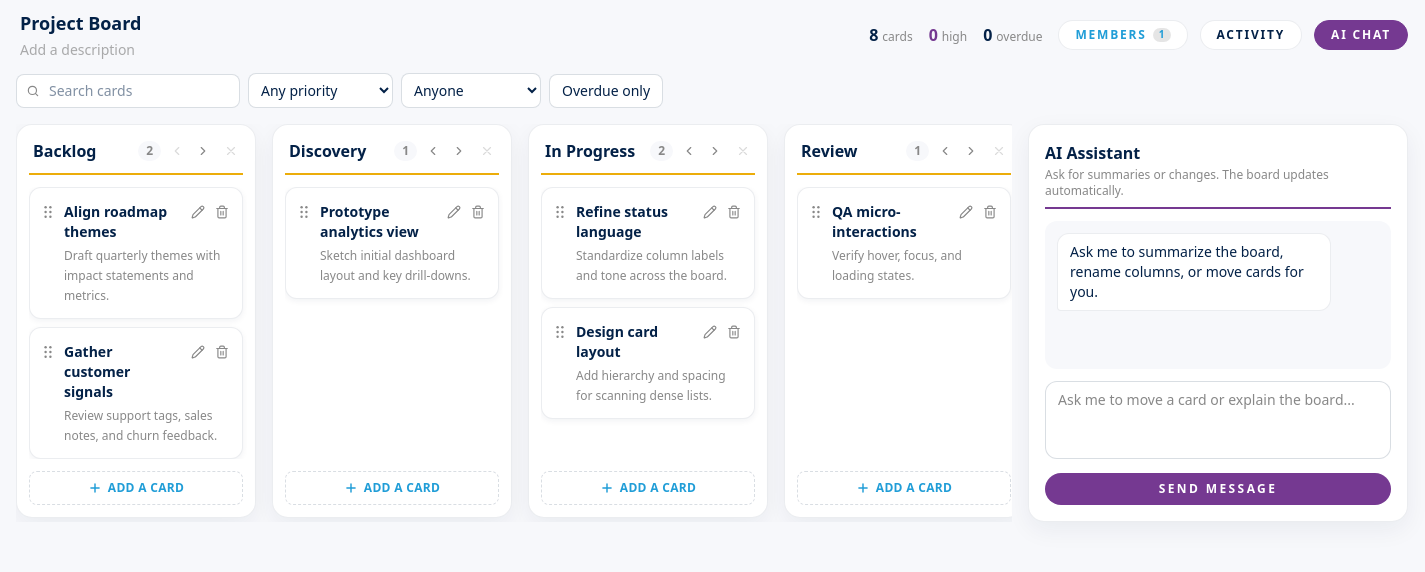
Test: KanbanBoard › restores the saved column title in the input when a rename fails
Replace the text in the 1st field named "Column title" with "Broken" at (81, 151), box [29, 137, 132, 165]
Then press Enter
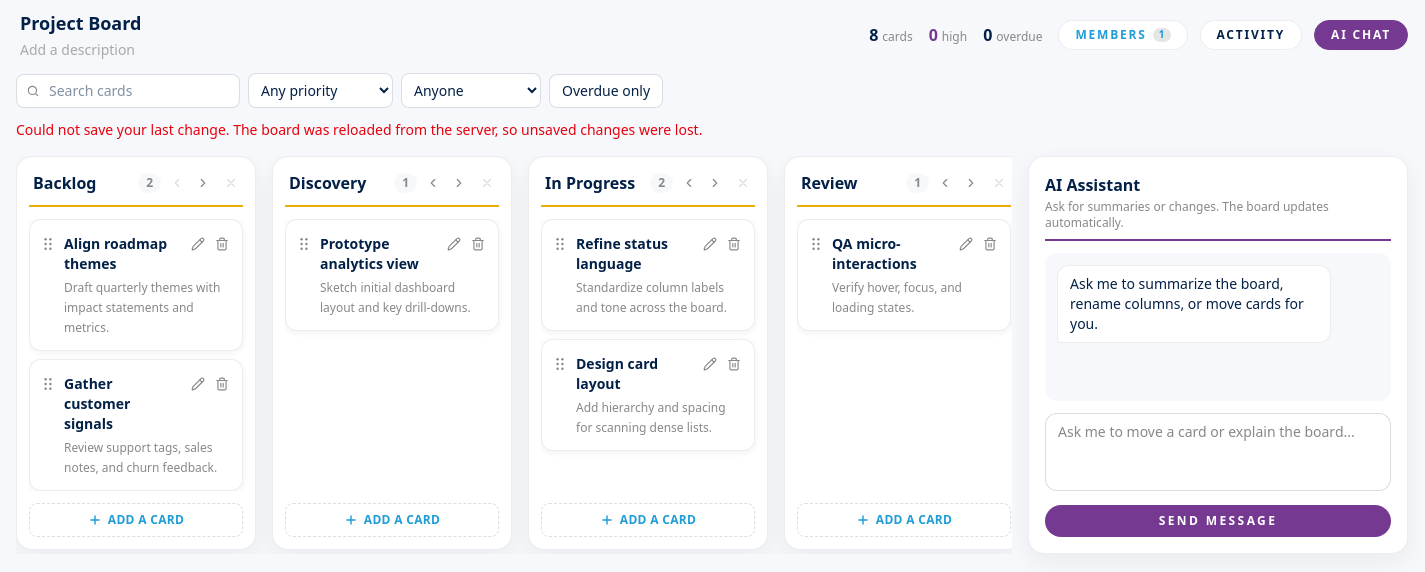
Expected: the message shows "Could not save", [16, 120, 702, 139]
Expected: the 1st field named "Column title" holds "Backlog", [29, 169, 132, 197]
